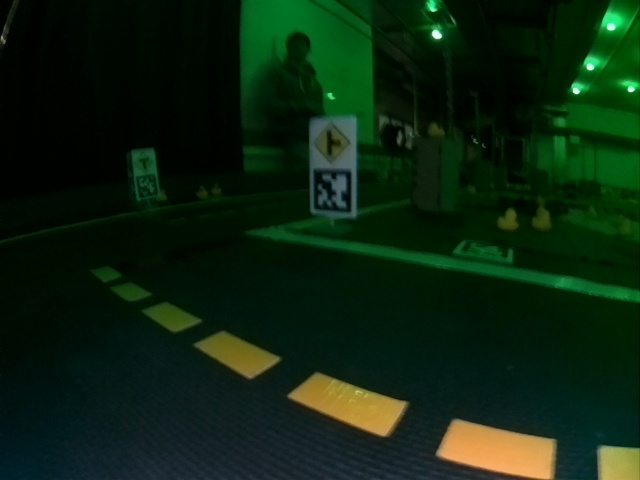Duckie: (499, 208, 519, 229), (532, 209, 552, 227), (210, 183, 220, 193)
Intersection sign: (313, 123, 352, 165), (134, 150, 155, 172)
QR code: (311, 168, 353, 213), (455, 240, 514, 264), (136, 178, 158, 198)
